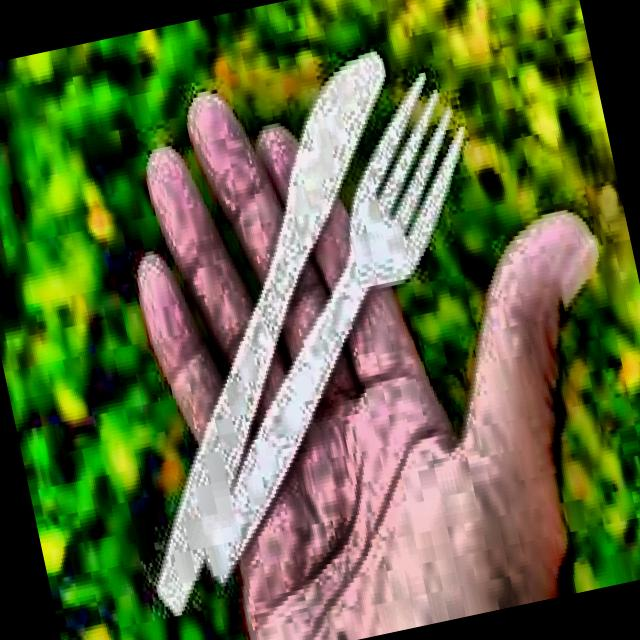plastic utensil: (206, 74, 463, 579), (158, 59, 382, 611)
